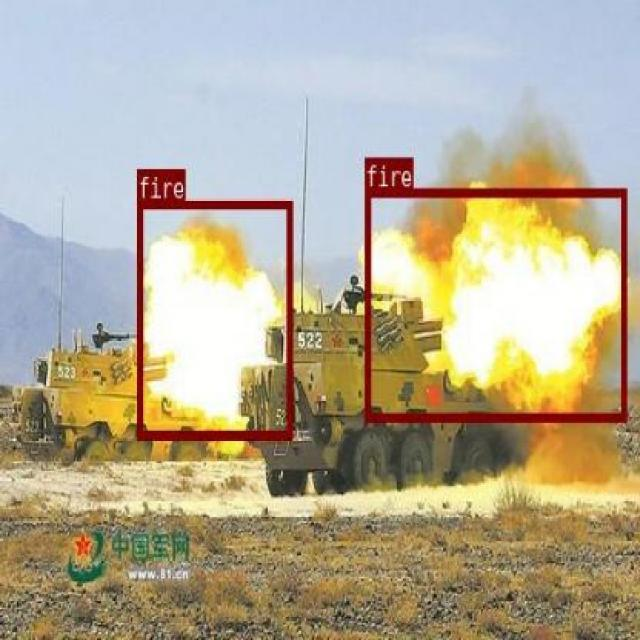fire: (364, 188, 624, 420), (136, 199, 292, 438)
